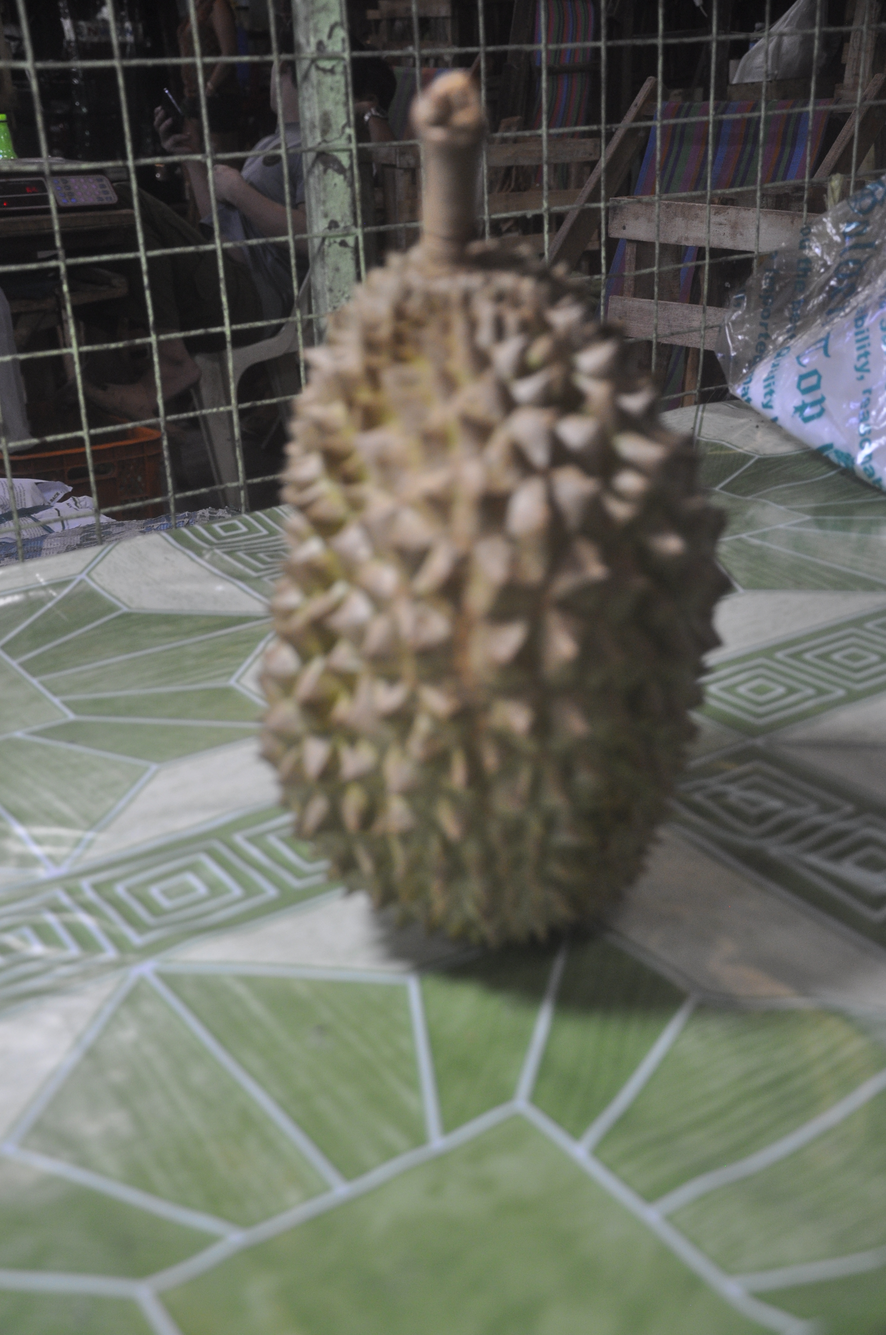mature: (262, 70, 726, 944)
